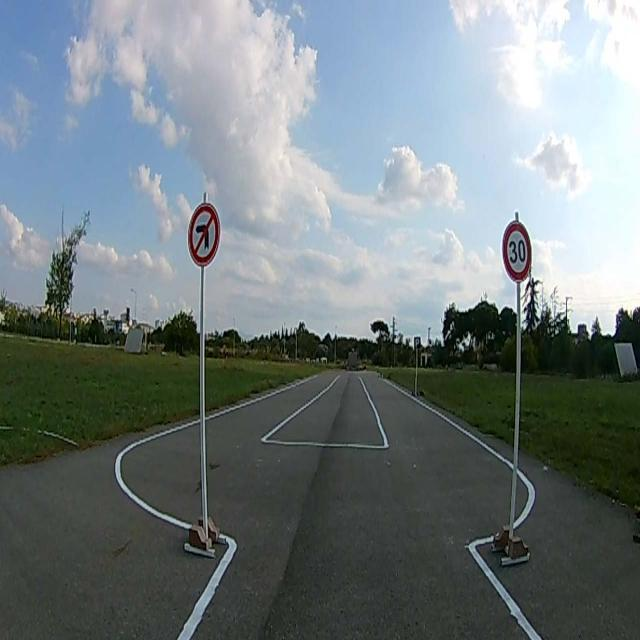30: (502, 223, 531, 280)
soladonulmez: (188, 205, 220, 264)
